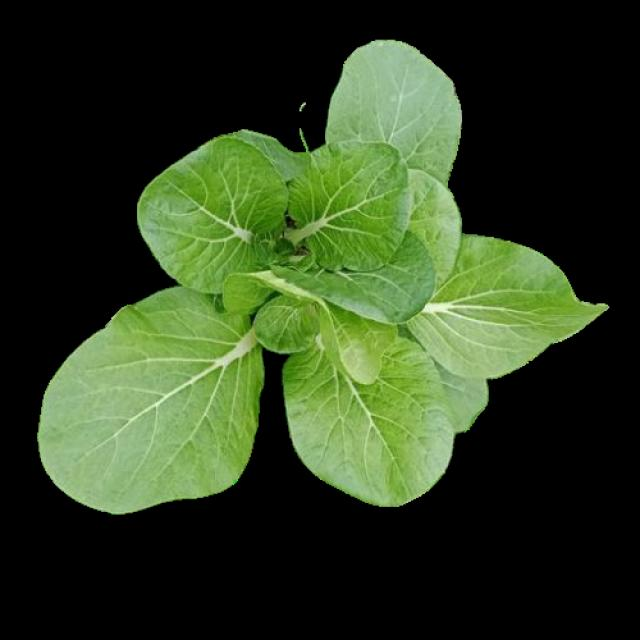healthy: (36, 39, 602, 514)
mature: (38, 42, 604, 517)
